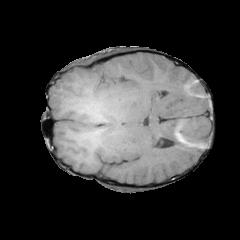glioma: (67, 67, 134, 157)
